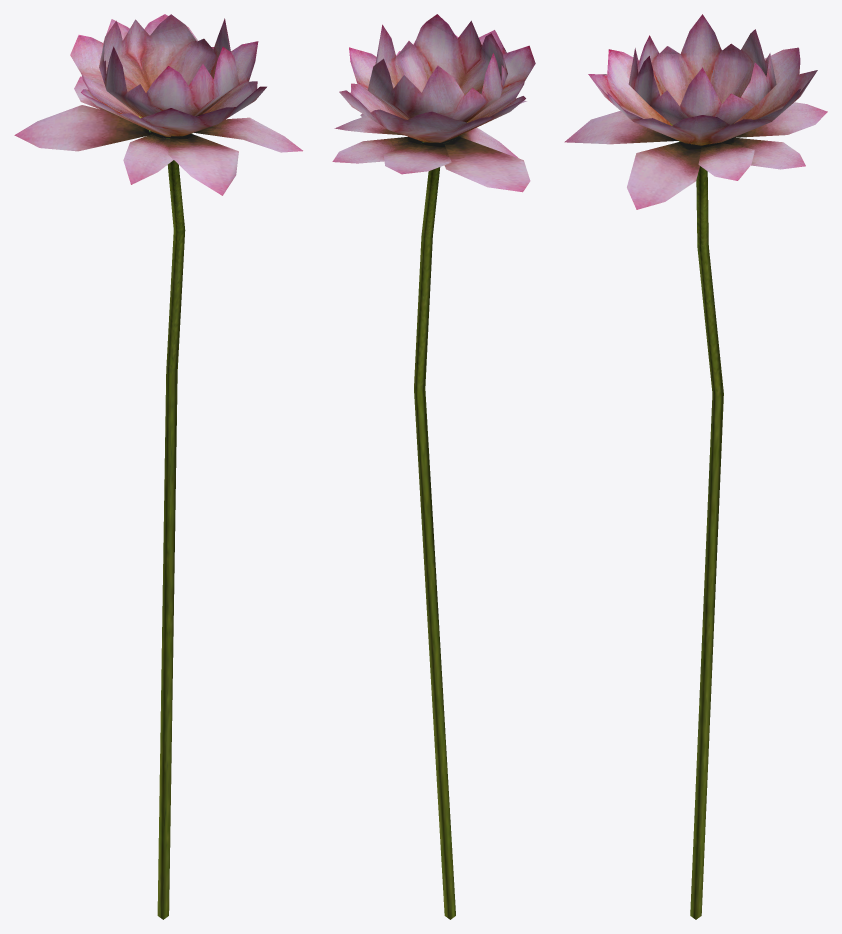
File: lotusflower_04.fbx
3 views of the same model, side by side, from view 1: azimuth 30°, elevation 25°; view 2: azimuth 150°, elevation 25°; view 3: azimuth 270°, elevation 25° (orthographic).
Parts seen in each view (by area): view 1: lotusflower_04; view 2: lotusflower_04; view 3: lotusflower_04.
Boxes of the visible parts, x1,y1,x2,y2 form: lotusflower_04: (14, 14, 302, 919); lotusflower_04: (332, 14, 535, 919); lotusflower_04: (564, 14, 827, 919).
Size of the model in its own units: 0.483 by 1.83 by 0.4979.
